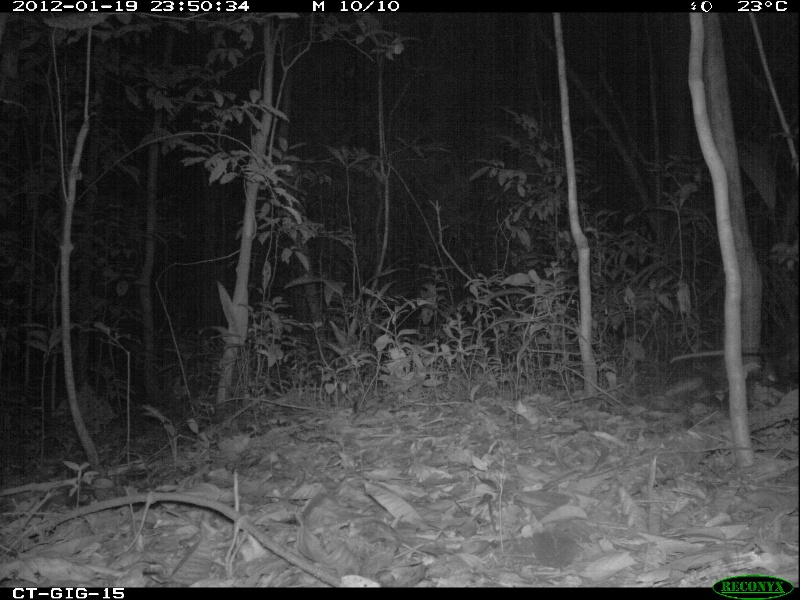opossum: (666, 325, 800, 390)
